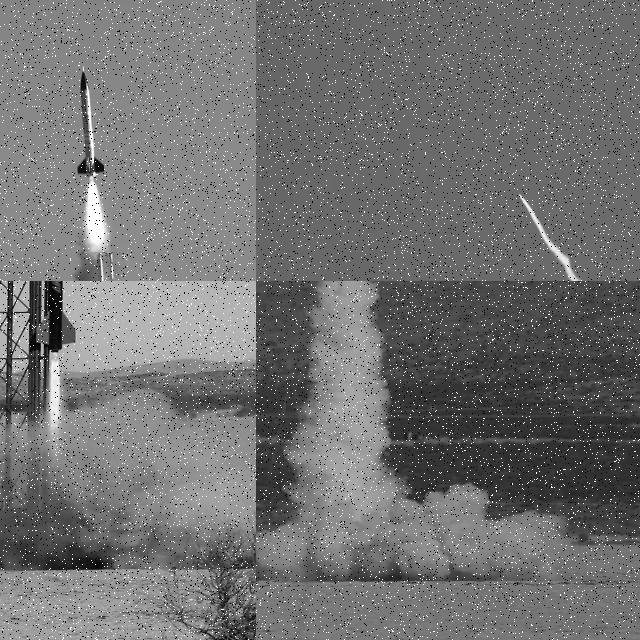Rocket: (75, 66, 104, 180), (33, 281, 78, 352), (517, 190, 520, 196)
